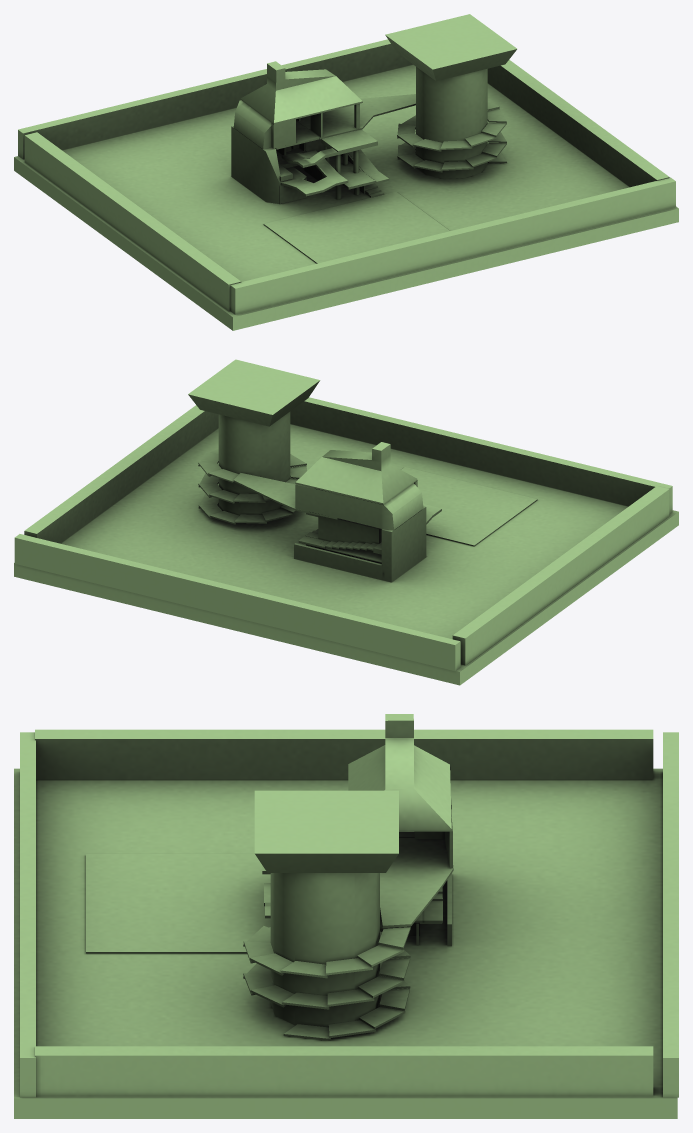
Rendered from testRad.FBX.
3 renders of one model, top to bottom at view 1: azimuth 30°, elevation 25°; view 2: azimuth 150°, elevation 25°; view 3: azimuth 270°, elevation 25°, orthographic. The views are drawn at different scales.
Parts seen in each view (by area): view 1: Object04; view 2: Object04; view 3: Object04.
Part boxes in pixels (x1,y1,x2,y2): Object04: (14, 14, 678, 330); Object04: (14, 359, 678, 685); Object04: (14, 714, 678, 1118).
Bounding box in the file's own units: 173 × 49.94 × 147.
Materials: 1 (1 with a texture image).
